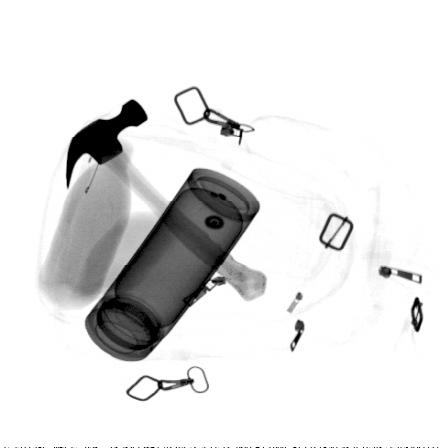Hammer: (64, 96, 267, 302)
